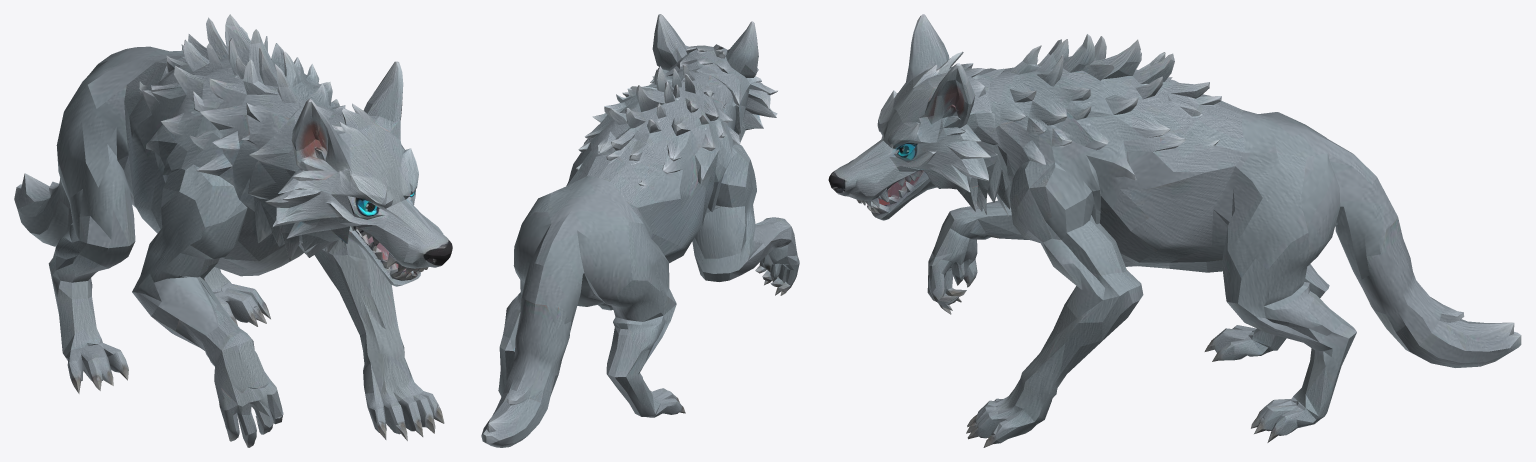
Rendered from enemy_enm-01-003.glb.
The picture shows the model from 3 angles, left to right: view 1: azimuth 30°, elevation 25°; view 2: azimuth 150°, elevation 25°; view 3: azimuth 270°, elevation 25°; orthographic projection. The views are drawn at different scales.
Size of the model in its own units: 0.7388 by 1.1 by 1.9.
Materials: 1 (1 with a texture image).
